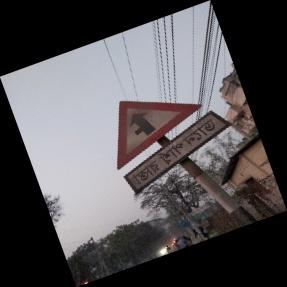Side-road-right: (117, 98, 225, 195)
